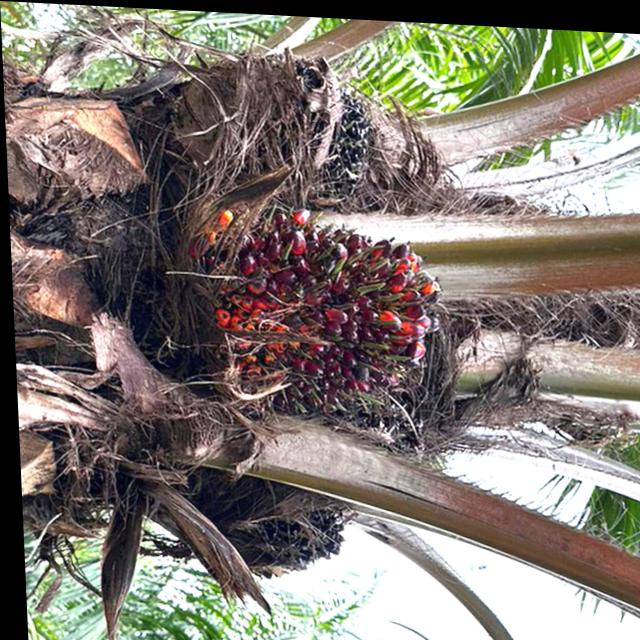ripe: (193, 201, 445, 420), (266, 54, 380, 203), (223, 463, 351, 585)
